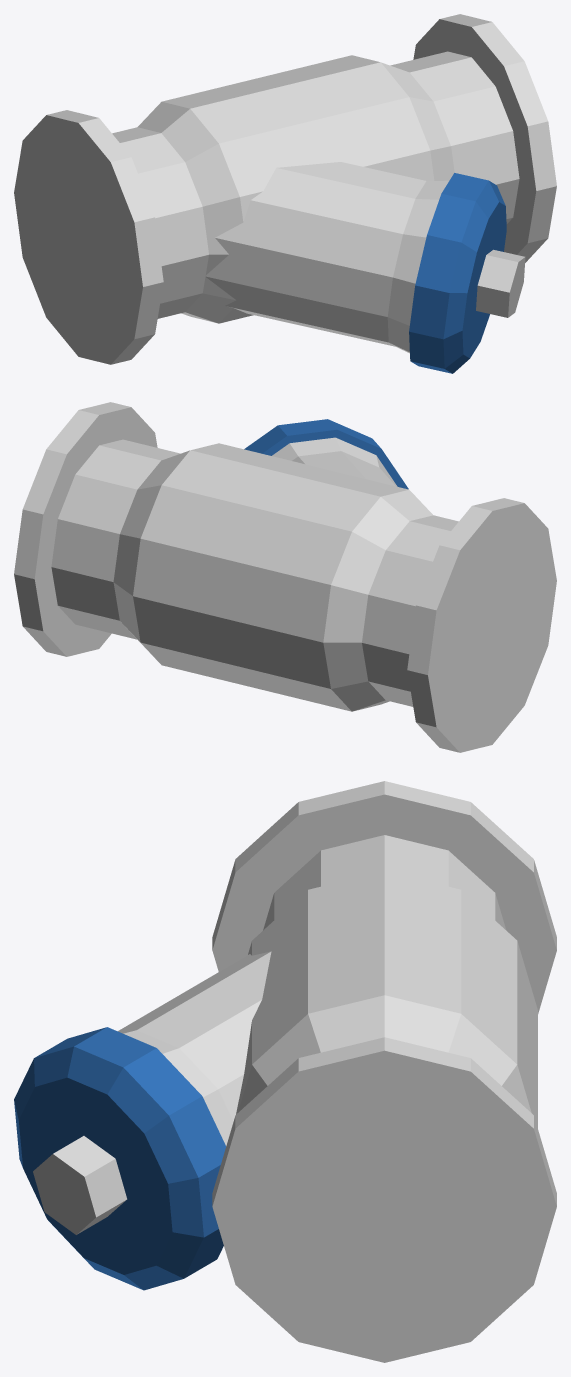
The model's file is strainer-y.glb.
3 renders of one model, top to bottom at view 1: azimuth 30°, elevation 25°; view 2: azimuth 150°, elevation 25°; view 3: azimuth 270°, elevation 25°, orthographic. The views are drawn at different scales.
Parts seen in each view (by area): view 1: body, basket, in.flange, basket.cap, out.flange, out.stub, in.stub, cleanout.plug; view 2: body, in.flange, out.flange, out.stub, in.stub, basket, basket.cap; view 3: out.flange, body, basket.cap, in.flange, basket, in.stub, cleanout.plug.
Boxes of the visible parts, <box> form: body: <box>137,55,454,323</box>; basket: <box>205,162,448,353</box>; in.flange: <box>14,110,163,364</box>; basket.cap: <box>409,173,506,373</box>; out.flange: <box>413,14,556,262</box>; out.stub: <box>390,51,519,223</box>; in.stub: <box>112,127,208,318</box>; cleanout.plug: <box>476,249,525,317</box>; body: <box>113,443,432,711</box>; in.flange: <box>407,498,556,752</box>; out.flange: <box>14,402,157,656</box>; out.stub: <box>51,439,180,639</box>; in.stub: <box>362,515,458,706</box>; basket: <box>272,437,397,486</box>; basket.cap: <box>244,419,408,489</box>; out.flange: <box>212,1037,556,1362</box>; body: <box>236,871,537,1128</box>; basket.cap: <box>14,1027,226,1290</box>; in.flange: <box>212,781,556,1013</box>; basket: <box>118,951,271,1145</box>; in.stub: <box>263,835,505,930</box>; cleanout.plug: <box>33,1136,127,1234</box>.
Size of the model in its own units: 1 by 0.5462 by 0.8509.
